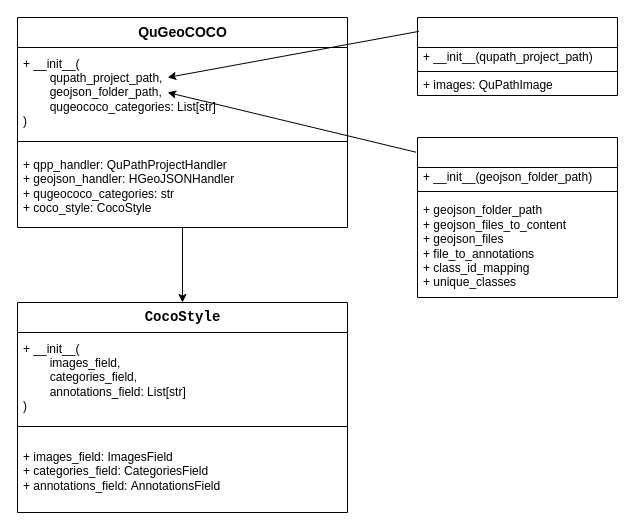
The diagram is 635 pixels wide and 530 high, and some of its shapes have lost their labels. Here are the shapes that lost their labels. From the top down, the box of each, then its label:
(416, 16, 618, 96): QuPathProjectHandler
(416, 136, 618, 298): GeoJSONHandler
